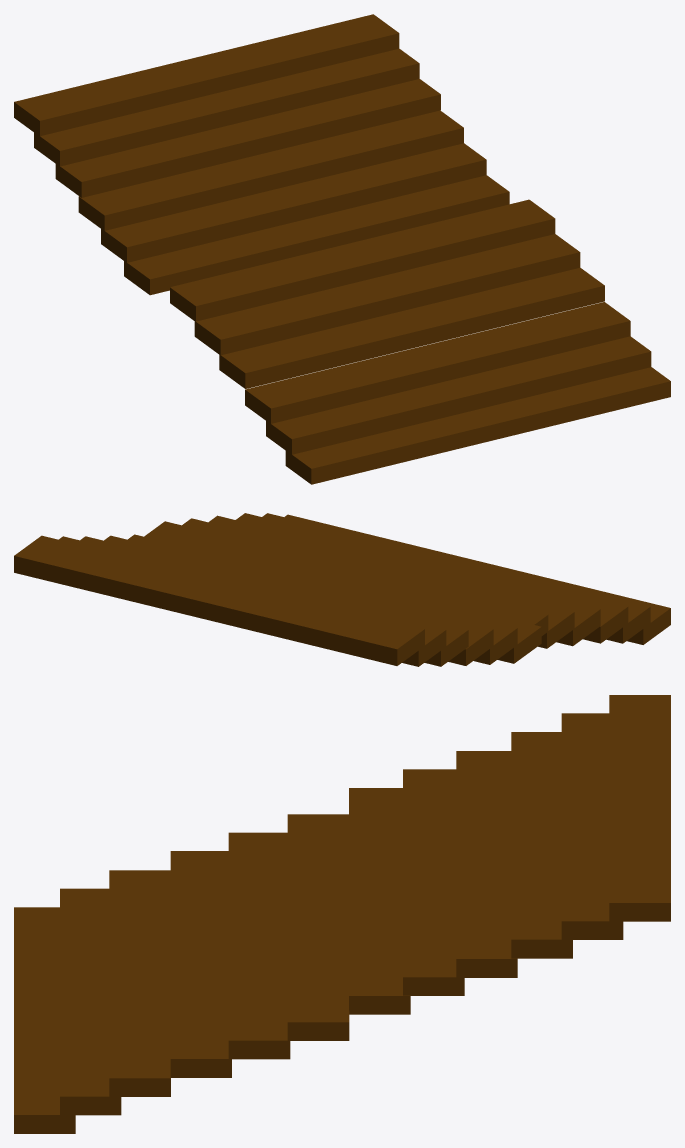
Rendered from Stairs.fbx.
3 views of the same model, one above another, from view 1: azimuth 30°, elevation 25°; view 2: azimuth 150°, elevation 25°; view 3: azimuth 270°, elevation 25° (orthographic). The views are drawn at different scales.
Parts seen in each view (by area): view 1: Cube.008; view 2: Cube.008; view 3: Cube.008.
Part boxes in pixels (x1,y1,x2,y2): Cube.008: [14, 14, 670, 484]; Cube.008: [14, 513, 670, 666]; Cube.008: [14, 695, 670, 1133].
Bounding box in the file's own units: 1688 × 786 × 2134.
